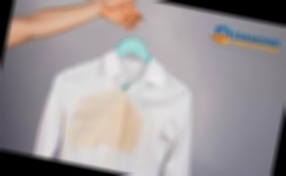coffee: (76, 97, 140, 150)
